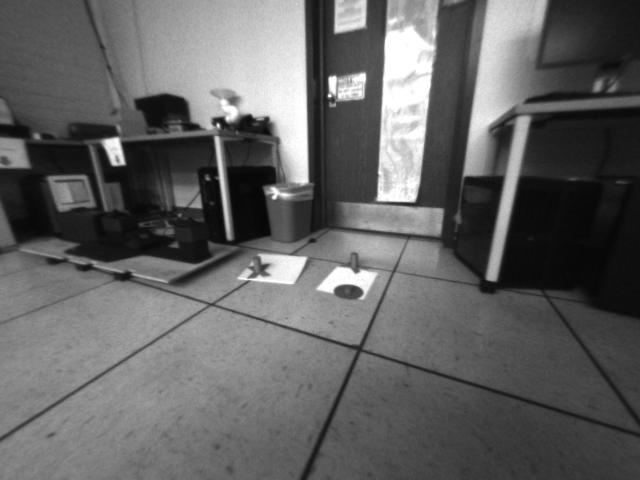X: (246, 255, 273, 280), (341, 251, 367, 274)
